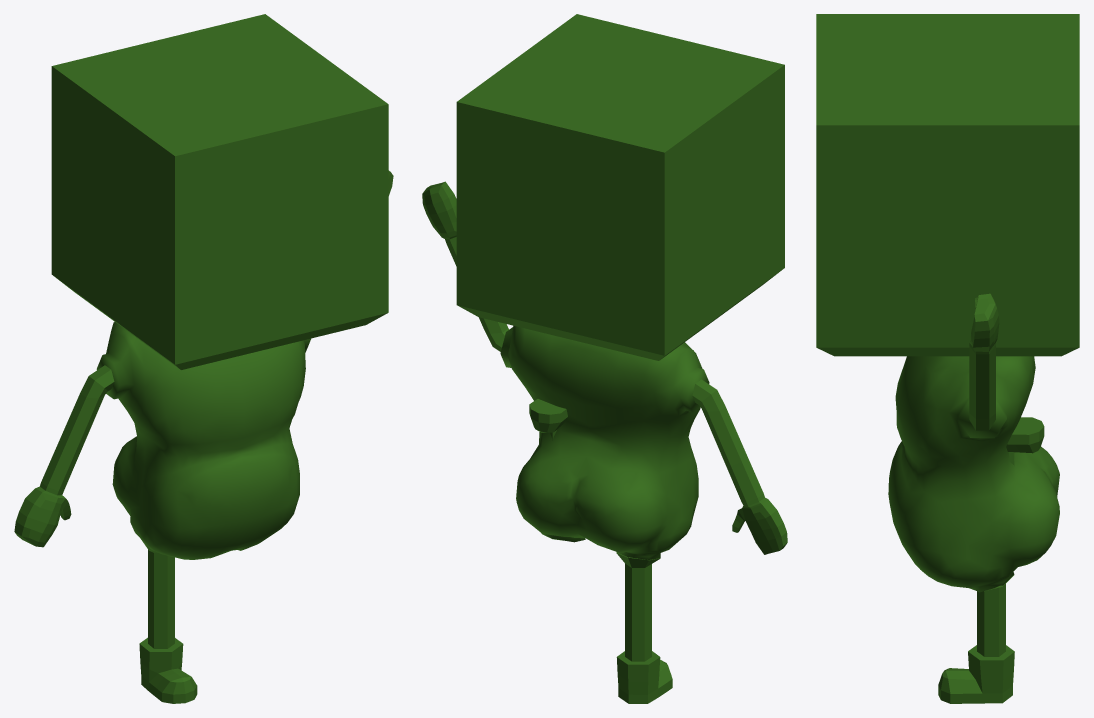
File: CharacterModel.fbx
3 views of the same model, side by side, from view 1: azimuth 30°, elevation 25°; view 2: azimuth 150°, elevation 25°; view 3: azimuth 270°, elevation 25° (orthographic). The views are drawn at different scales.
Visible parts, largest first — view 1: CharacterHead_Edit, BoxBody_VEd, ArmL, LegL; view 2: CharacterHead_Edit, BoxBody_VEd, LegL, ArmL, ArmR, LegR; view 3: CharacterHead_Edit, BoxBody_VEd, LegL, ArmR, LegR.
Part boxes in pixels (x1,y1,x2,y2): CharacterHead_Edit: [51, 14, 388, 369]; BoxBody_VEd: [96, 322, 310, 559]; ArmL: [14, 365, 114, 547]; LegL: [139, 538, 197, 703]; CharacterHead_Edit: [456, 14, 784, 360]; BoxBody_VEd: [500, 325, 709, 559]; LegL: [616, 553, 672, 703]; ArmL: [692, 379, 787, 554]; ArmR: [422, 181, 509, 351]; LegR: [529, 399, 567, 540]; CharacterHead_Edit: [816, 14, 1079, 356]; BoxBody_VEd: [888, 356, 1059, 592]; LegL: [938, 583, 1014, 703]; ArmR: [969, 293, 999, 430]; LegR: [977, 417, 1044, 592].
Size of the model in its own units: 262 by 150 by 406.
